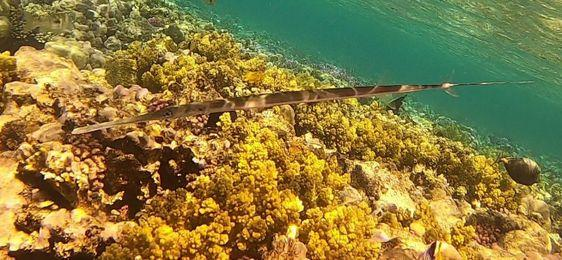Fistularia commersonii: (6, 51, 546, 145)
